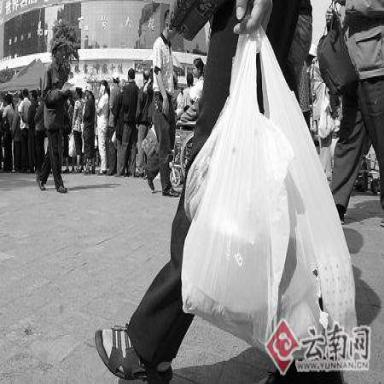plasticbag: (182, 17, 361, 356)
